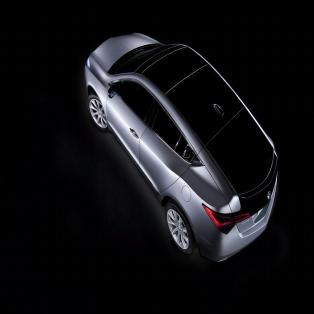Auto: (82, 30, 278, 269)
